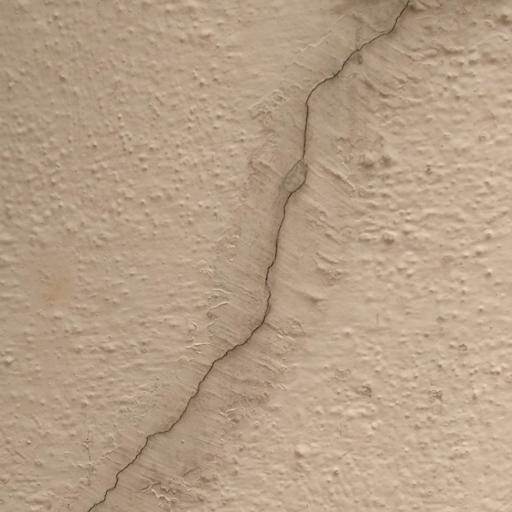minor_crack: (52, 0, 441, 512)
